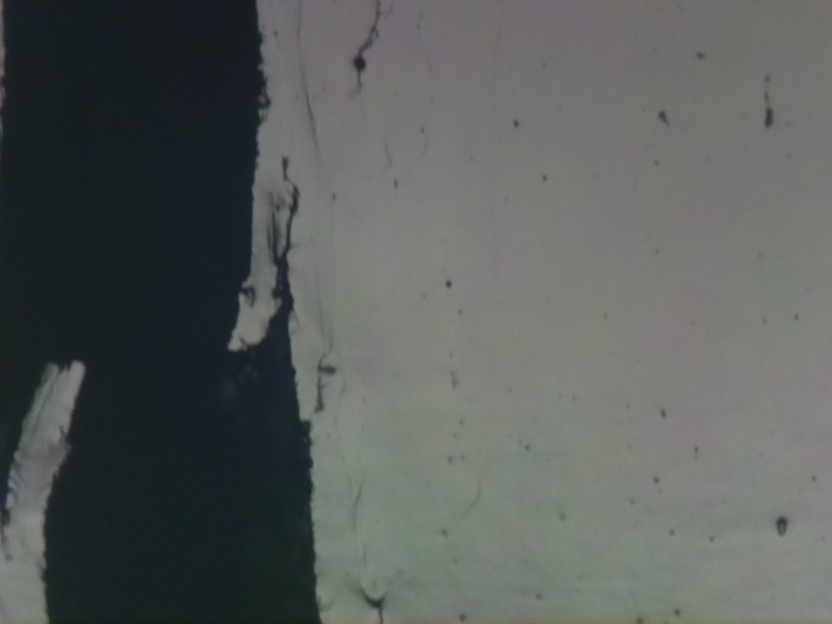crack: (0, 0, 321, 624), (353, 0, 382, 100)
